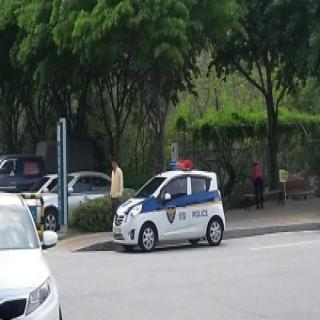Police_car: (111, 158, 226, 248)
